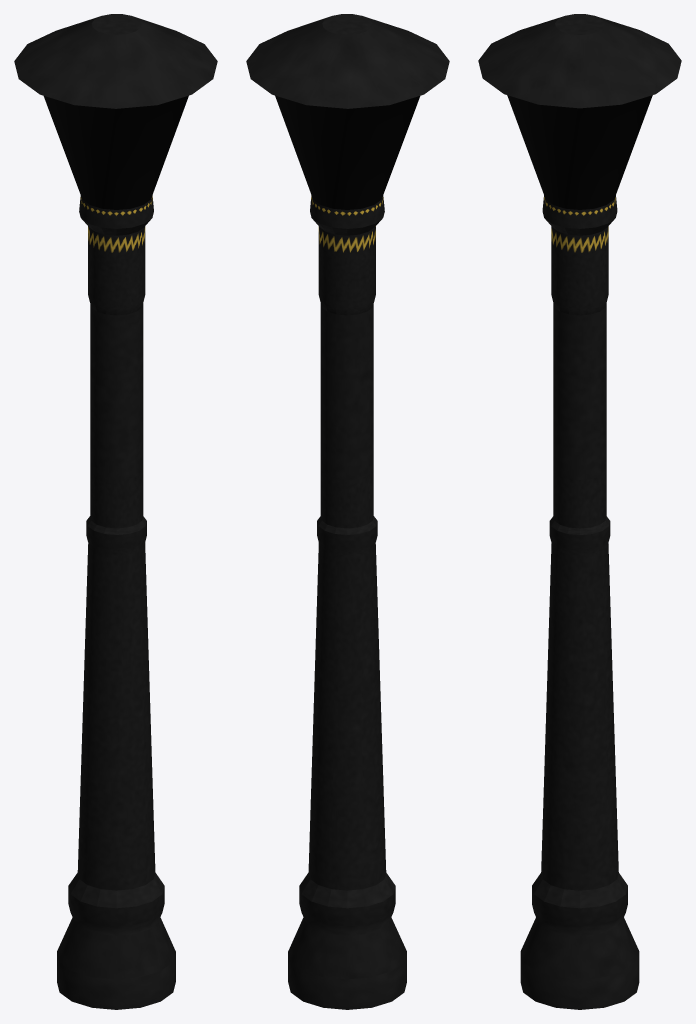
The model's file is LampClear.obj.
The picture shows the model from 3 angles, left to right: view 1: azimuth 30°, elevation 25°; view 2: azimuth 150°, elevation 25°; view 3: azimuth 270°, elevation 25°; orthographic projection.
Visible parts, largest first — view 1: Lamp; view 2: Lamp; view 3: Lamp.
Part boxes in pixels (x1=…): Lamp: x1=14, y1=14, x2=217, y2=1009; Lamp: x1=246, y1=14, x2=449, y2=1009; Lamp: x1=478, y1=14, x2=681, y2=1009.
Bounding box in the file's own units: 1.12 × 5.86 × 1.13.
2 materials, 1 textured.
